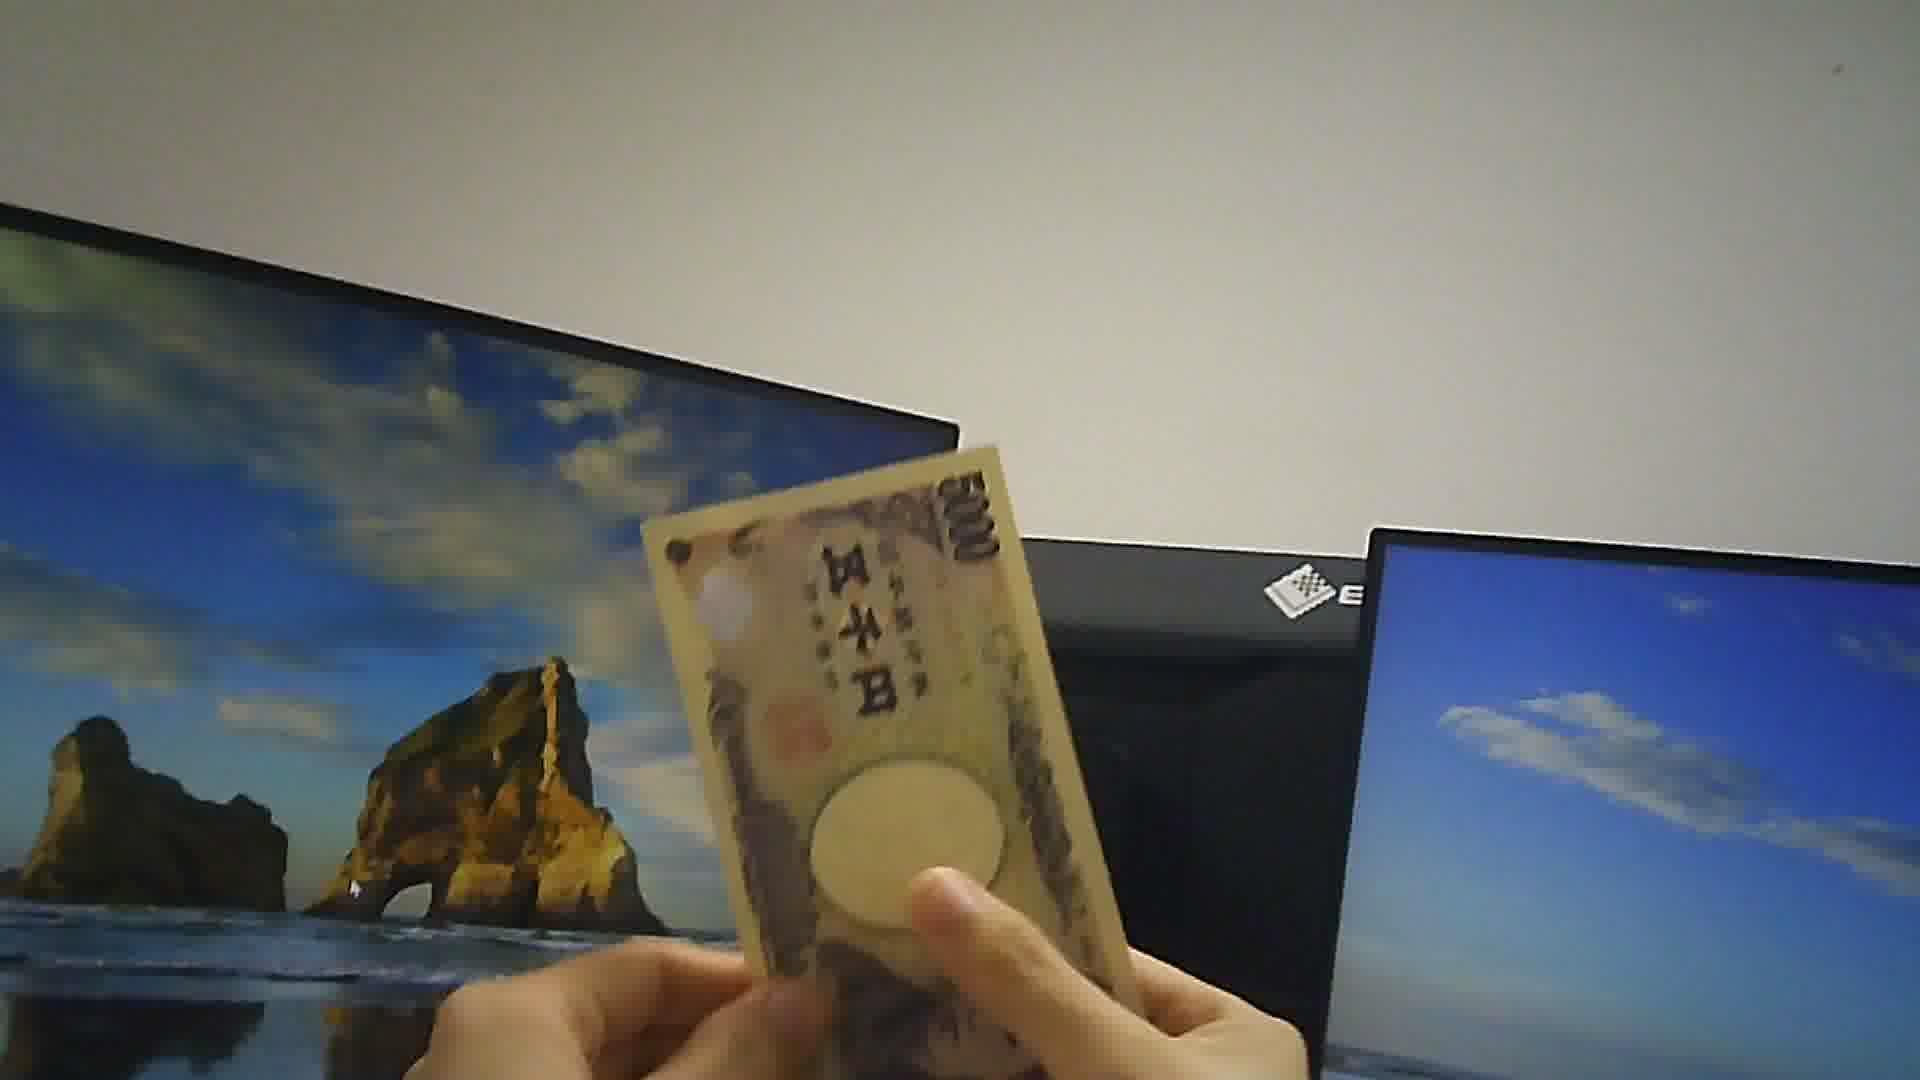5,000 Yen: (611, 415, 1160, 1069)
